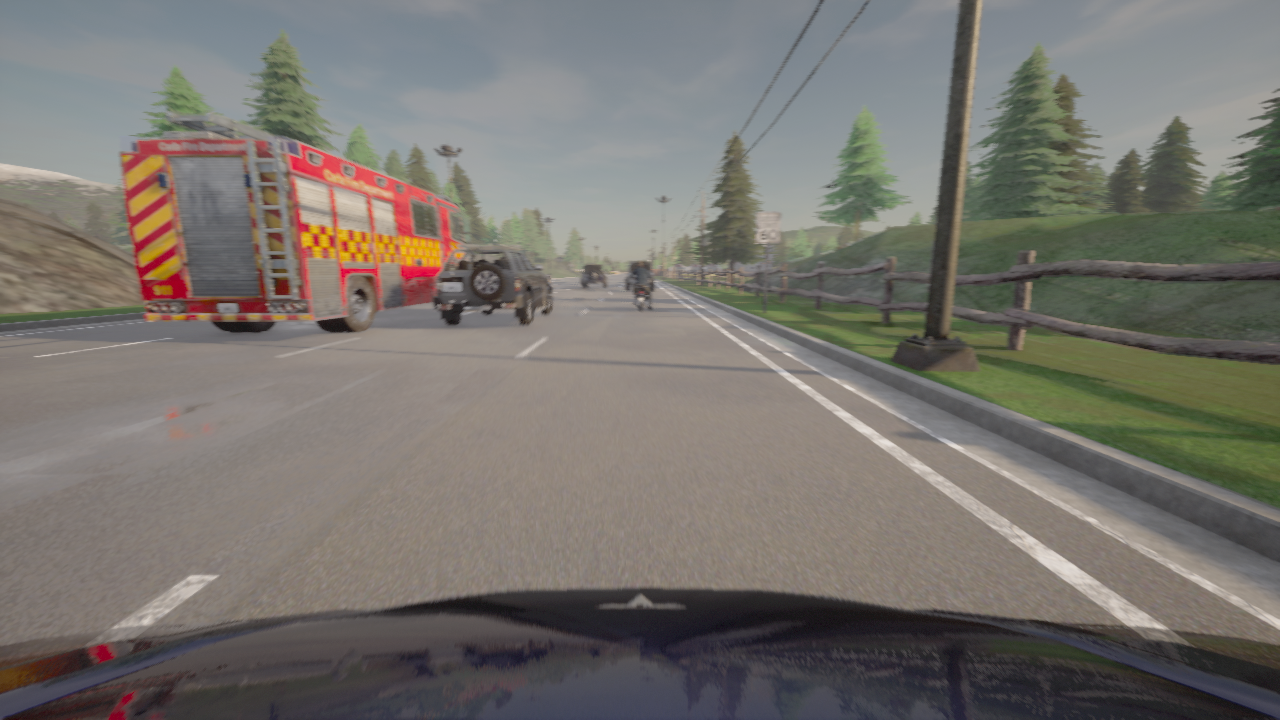cyclist: (0, 588, 1279, 719), (119, 112, 471, 332), (433, 245, 552, 325), (628, 272, 653, 310), (625, 262, 654, 290), (581, 264, 608, 288)
